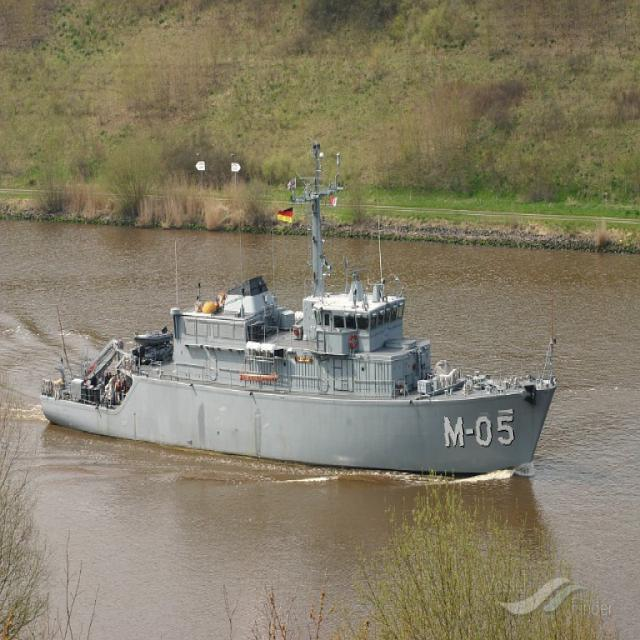OCR: (440, 406, 522, 458)
